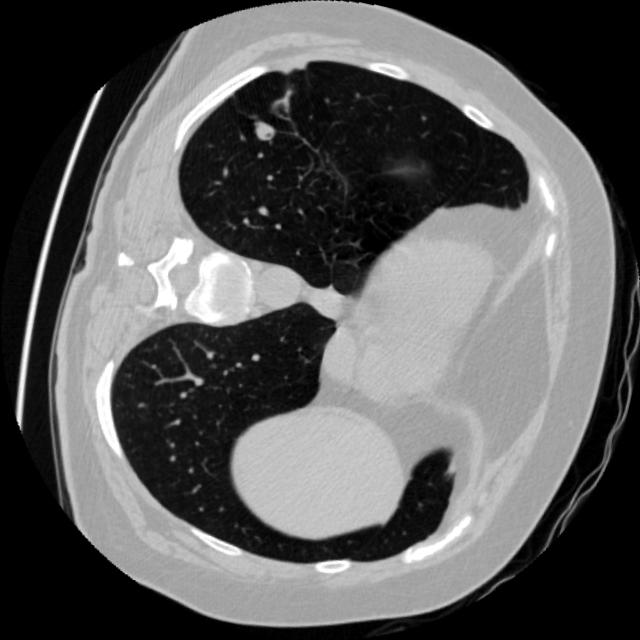nodule: (235, 101, 297, 163)
